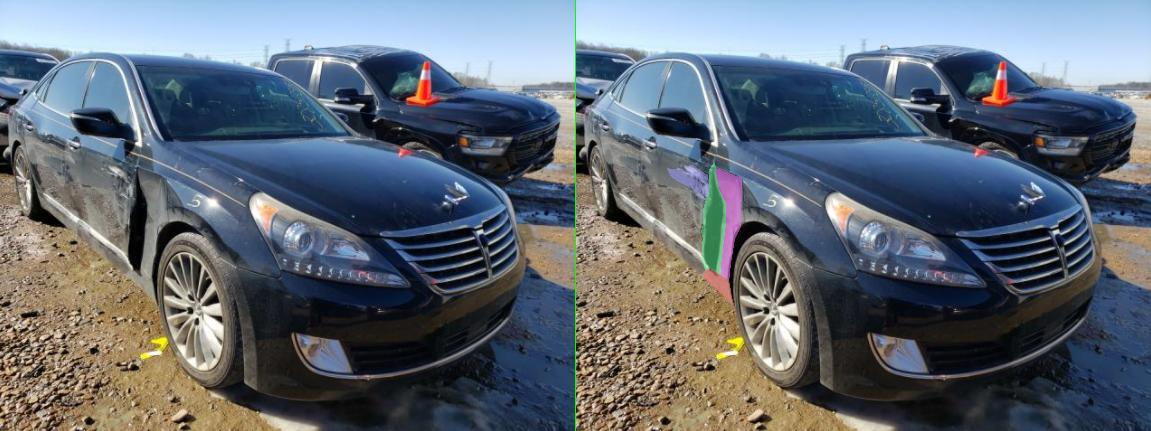Broken part: (250, 163, 298, 276)
Dent: (274, 167, 330, 282)
Missing part: (252, 268, 314, 304)
Scratch: (182, 168, 254, 194), (216, 165, 262, 184), (252, 183, 272, 200), (218, 172, 238, 177), (242, 193, 258, 199)
